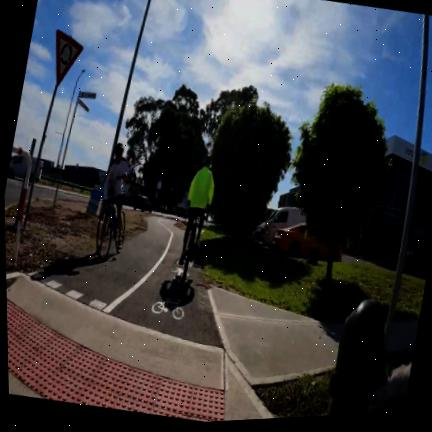Bike_Lane: (69, 217, 222, 347)
